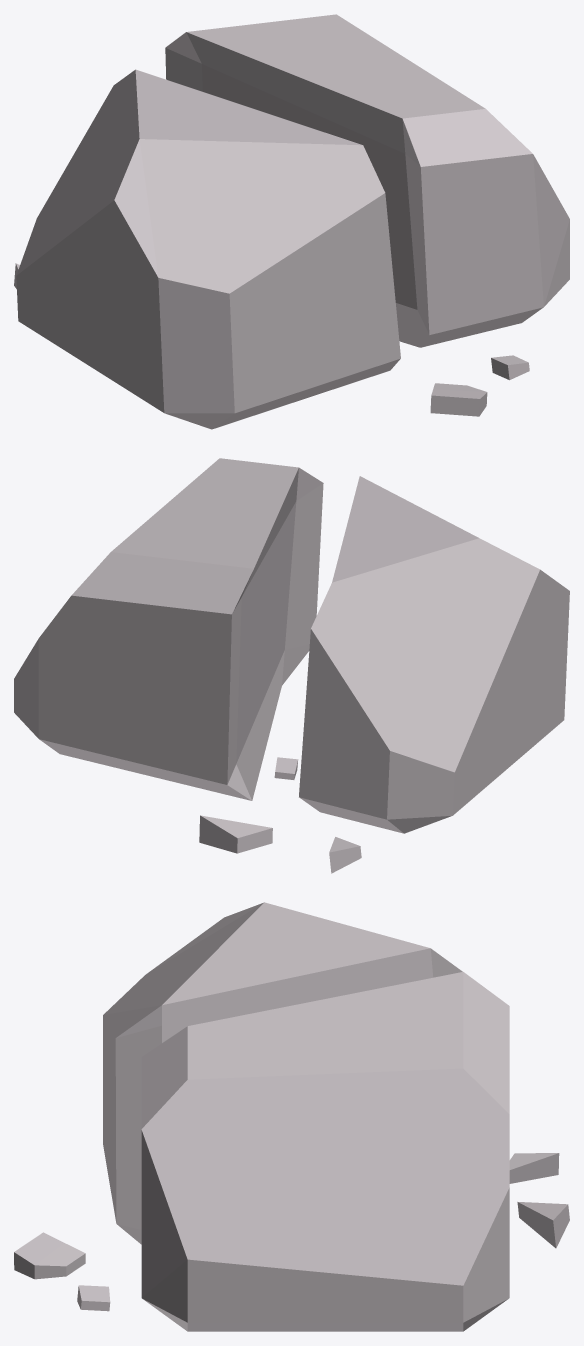
The model's file is Rock_Block_crk_m_04.fbx.
3 renders of one model, top to bottom at view 1: azimuth 30°, elevation 25°; view 2: azimuth 150°, elevation 25°; view 3: azimuth 270°, elevation 25°, orthographic. The views are drawn at different scales.
Visible parts, largest first — view 1: Rock_Block_crk_m_04; view 2: Rock_Block_crk_m_04; view 3: Rock_Block_crk_m_04.
Part boxes in pixels (bbox=[...]): Rock_Block_crk_m_04: bbox=[14, 14, 569, 429]; Rock_Block_crk_m_04: bbox=[14, 458, 569, 873]; Rock_Block_crk_m_04: bbox=[14, 902, 569, 1331].
Bounding box in the file's own units: 126 × 70.03 × 131.
